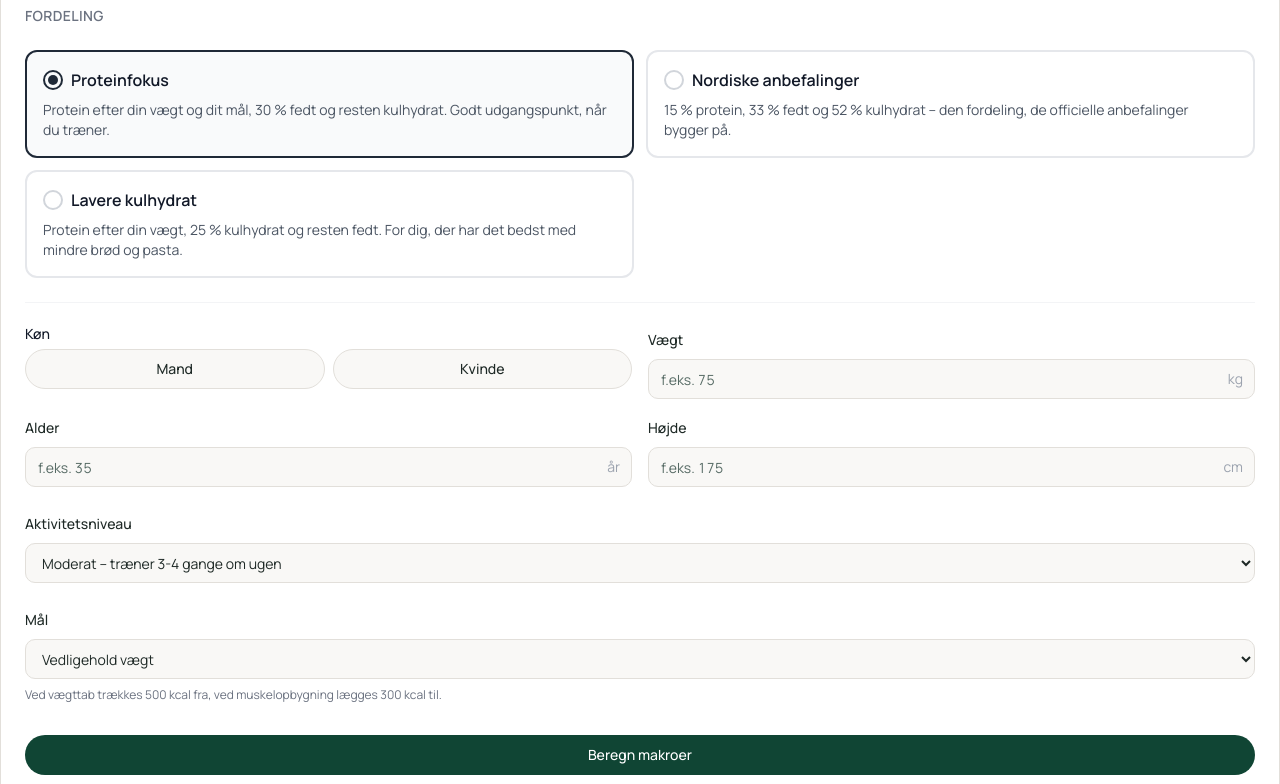
Test: MacroCalculator › asks for sex and height when it estimates the calories itself
(page scrolled)
Click the button "Beregn makroer" at (640, 755), box [25,735,1255,775]
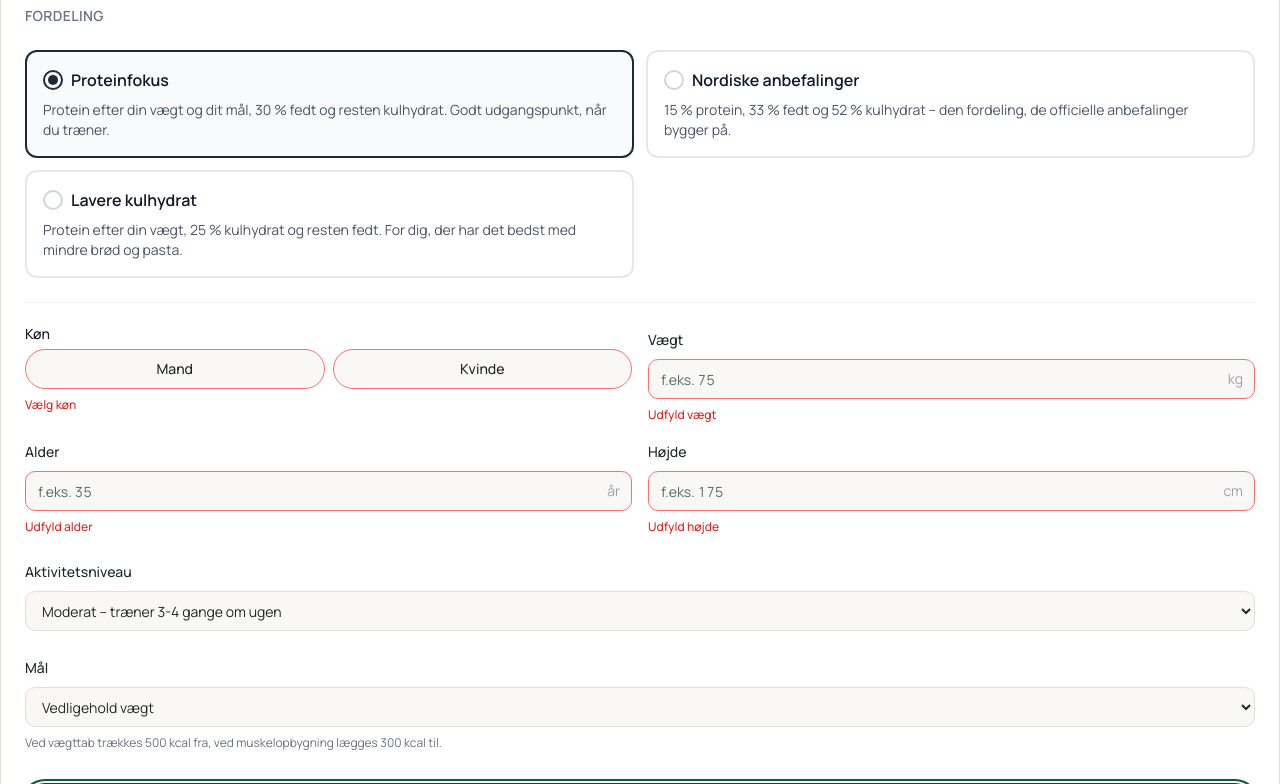
Expected: the text "Vælg køn" is shown, [25,396,76,413]
Expected: the text "Udfyld højde" is shown, [648,518,719,535]
